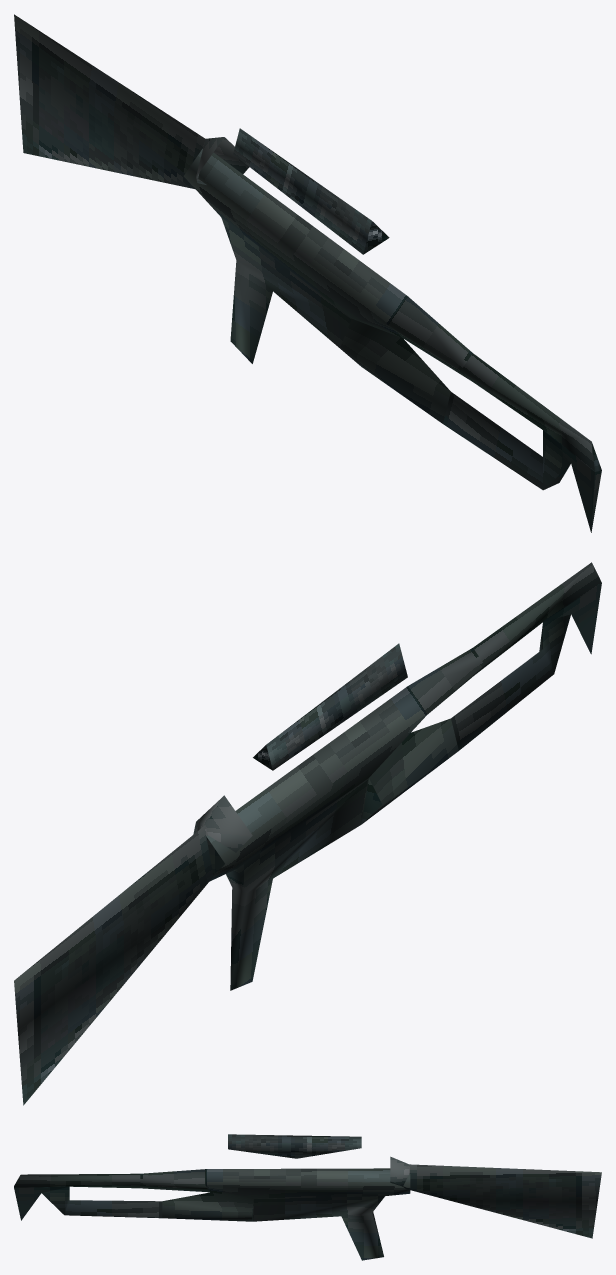
File: wp_carbine_laser_combined_l2.fbx
The picture shows the model from 3 angles, top to bottom: view 1: azimuth 30°, elevation 25°; view 2: azimuth 150°, elevation 25°; view 3: azimuth 270°, elevation 25°; orthographic projection. The views are drawn at different scales.
Parts seen in each view (by area): view 1: mesh_node; view 2: mesh_node; view 3: mesh_node.
Part boxes in pixels (<box>): mesh_node: <box>14,14,601,532</box>; mesh_node: <box>14,562,601,1105</box>; mesh_node: <box>14,1134,601,1260</box>.
Bounding box in the file's own units: 0.0415 × 0.1709 × 0.7405.
